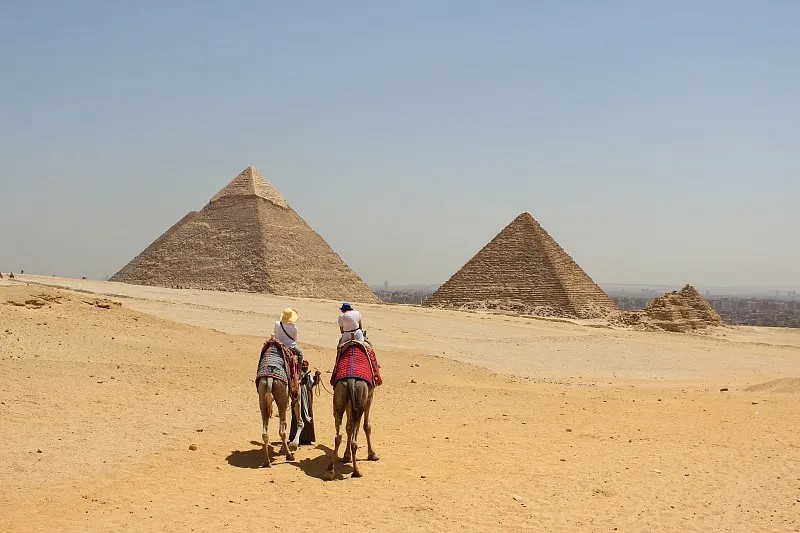Pyramid: (112, 166, 386, 307), (422, 212, 620, 318)
